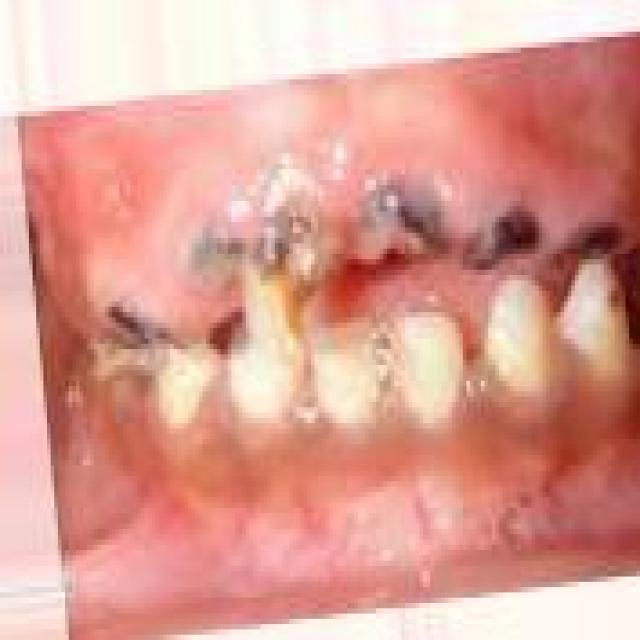caries: (219, 148, 342, 375), (346, 166, 448, 280), (97, 286, 194, 392), (457, 192, 548, 290), (558, 204, 634, 297)
